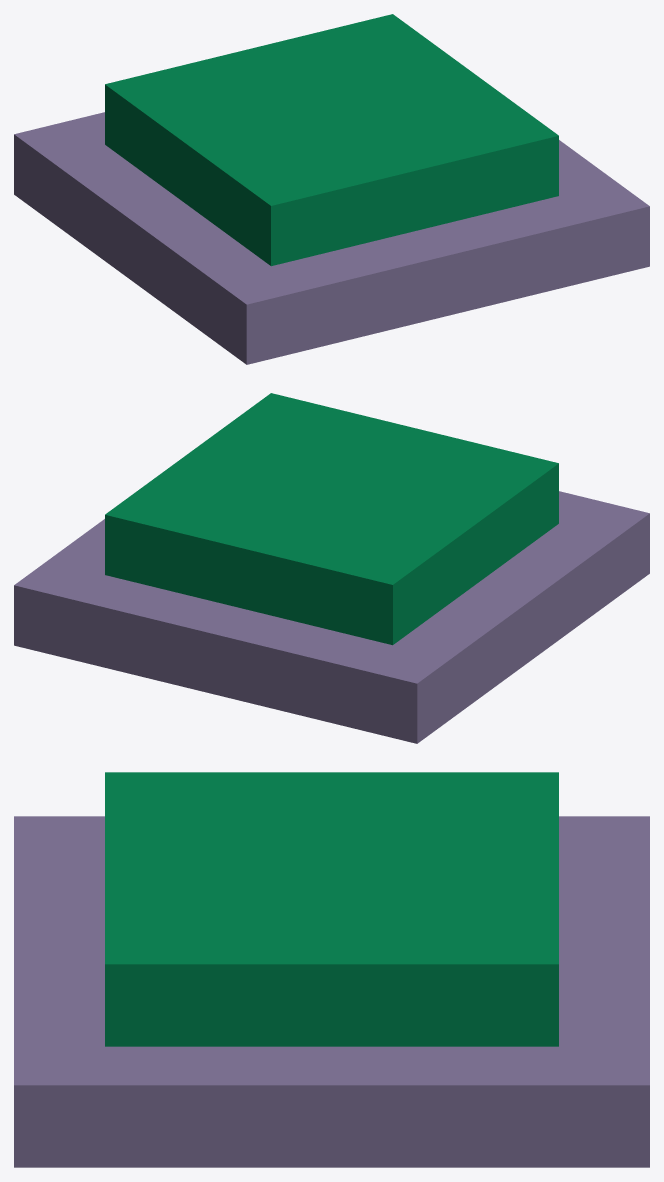
The model's file is button_a_green.obj.
3 views of the same model, one above another, from view 1: azimuth 30°, elevation 25°; view 2: azimuth 150°, elevation 25°; view 3: azimuth 270°, elevation 25° (orthographic). The views are drawn at different scales.
Bounding box in the file's own units: 0.7 × 0.2 × 0.7.
Materials: 1 (1 with a texture image).
